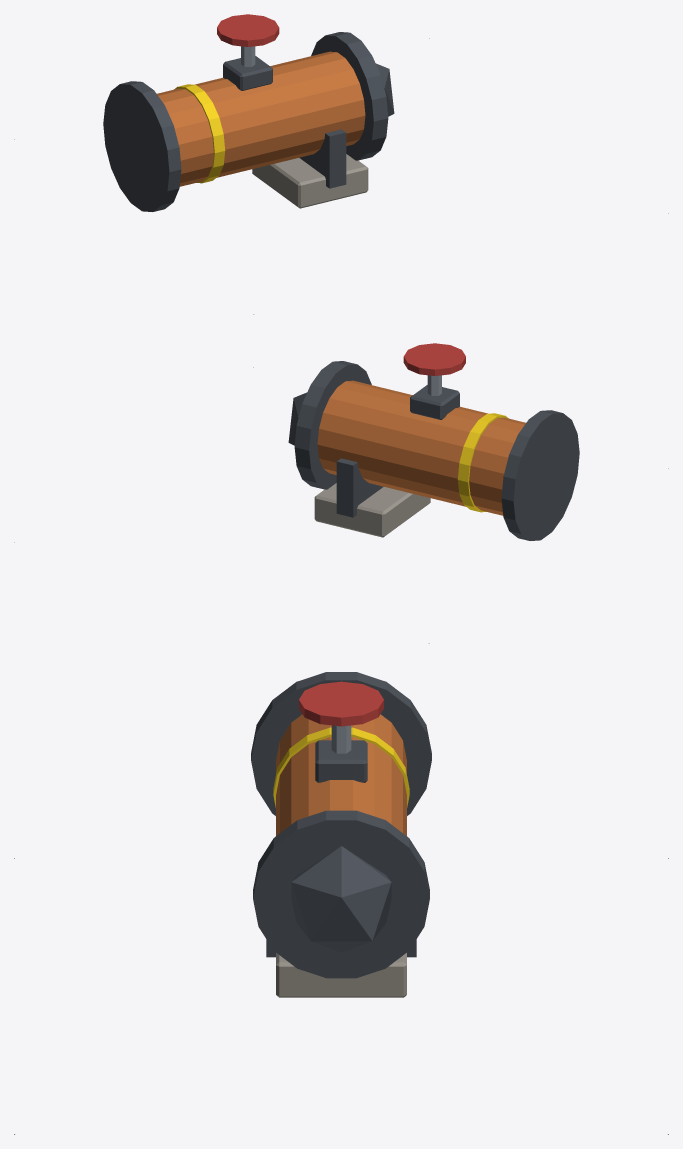
Rendered from tuyau_bout_t1.glb.
3 renders of one model, top to bottom at view 1: azimuth 30°, elevation 25°; view 2: azimuth 150°, elevation 25°; view 3: azimuth 270°, elevation 25°, orthographic. The views are drawn at different scales.
Parts seen in each view (by area): view 1: pieces_cuivre.016, pieces_acier_sombre.044, pieces_beton.044, pieces_rouge.008, pieces_rive_t1.014; view 2: pieces_cuivre.016, pieces_acier_sombre.044, pieces_beton.044, pieces_rouge.008, pieces_rive_t1.014; view 3: pieces_acier_sombre.044, pieces_cuivre.016, pieces_beton.044, pieces_rouge.008, pieces_rive_t1.014.
Part boxes in pixels (x1=…): pieces_cuivre.016: x1=157, y1=51, x2=365, y2=186; pieces_acier_sombre.044: x1=103, y1=32, x2=394, y2=211; pieces_beton.044: x1=252, y1=154, x2=368, y2=208; pieces_rouge.008: x1=217, y1=14, x2=279, y2=46; pieces_rive_t1.014: x1=174, y1=84, x2=225, y2=183; pieces_cuivre.016: x1=317, y1=380, x2=525, y2=515; pieces_acier_sombre.044: x1=288, y1=361, x2=579, y2=540; pieces_beton.044: x1=314, y1=483, x2=430, y2=537; pieces_rouge.008: x1=403, y1=343, x2=465, y2=375; pieces_rive_t1.014: x1=457, y1=413, x2=508, y2=512; pieces_acier_sombre.044: x1=251, y1=672, x2=431, y2=978; pieces_cuivre.016: x1=276, y1=714, x2=406, y2=835; pieces_beton.044: x1=276, y1=953, x2=406, y2=997; pieces_rouge.008: x1=299, y1=681, x2=383, y2=726; pieces_rive_t1.014: x1=273, y1=727, x2=409, y2=807.
Bounding box in the file's own units: 1 × 0.395 × 1.
